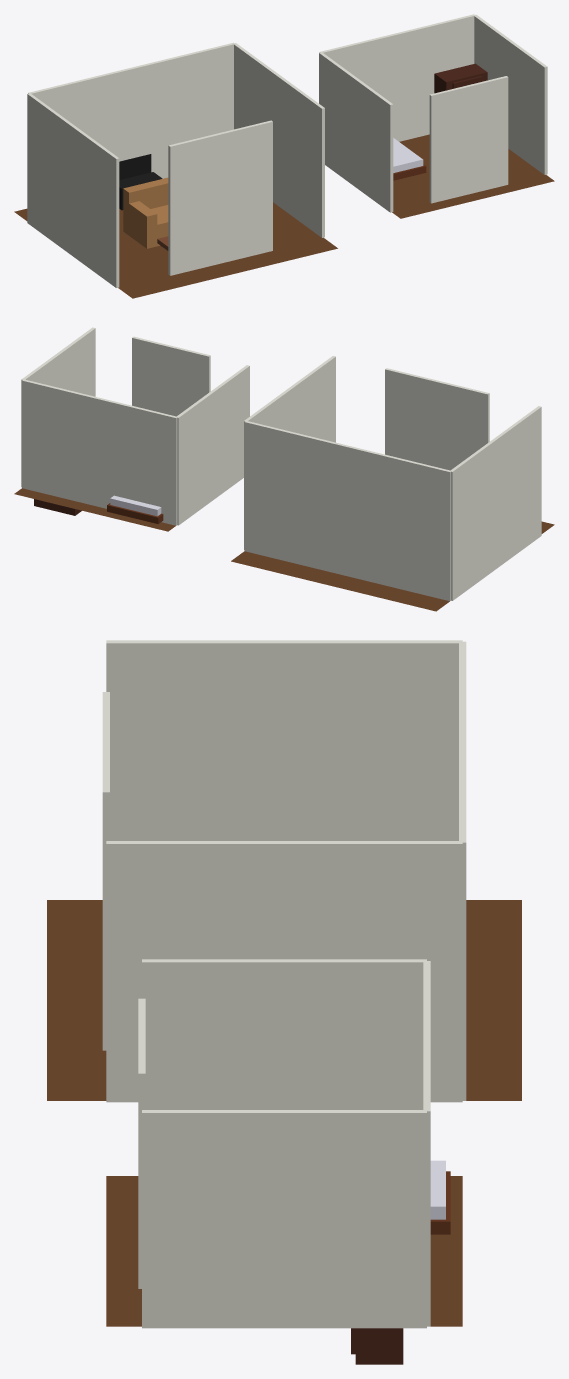
File: boq_professional_0744d3e2-9d2f-44dc-9be9-8b2a7d7617bd.obj
3 views of the same model, one above another, from view 1: azimuth 30°, elevation 25°; view 2: azimuth 150°, elevation 25°; view 3: azimuth 270°, elevation 25° (orthographic). The views are drawn at different scales.
Parts seen in each view (by area): view 1: BackWall_modern_living_room, FrontWall_modern_living_room, LeftWall_modern_living_room, RightWall_modern_living_room, BackWall_master_bedroom, FrontWall_master_bedroom, LeftWall_master_bedroom, Floor_modern_living_room, RightWall_master_bedroom, Floor_master_bedroom, SofaBackrest_modern_living_room, SofaBody_modern_living_room (+5 smaller); view 2: BackWall_modern_living_room, BackWall_master_bedroom, LeftWall_modern_living_room, FrontWall_modern_living_room, LeftWall_master_bedroom, FrontWall_master_bedroom, RightWall_modern_living_room, Floor_modern_living_room, RightWall_master_bedroom, Floor_master_bedroom, Mattress_master_bedroom, BedFrame_master_bedroom; view 3: LeftWall_modern_living_room, RightWall_master_bedroom, RightWall_modern_living_room, LeftWall_master_bedroom, Floor_modern_living_room, Floor_master_bedroom, BackWall_modern_living_room, FrontWall_modern_living_room, BackWall_master_bedroom, Wardrobe_master_bedroom, FrontWall_master_bedroom, Mattress_master_bedroom.
Boxes of the visible parts, x1,y1,x2,y2 form: BackWall_modern_living_room: (28,42,233,178); FrontWall_modern_living_room: (168,120,272,275); LeftWall_modern_living_room: (27,93,119,287); RightWall_modern_living_room: (233,43,324,237); BackWall_master_bedroom: (319,14,475,141); FrontWall_master_bedroom: (429,76,508,203); LeftWall_master_bedroom: (319,52,393,212); Floor_modern_living_room: (14,202,337,298); RightWall_master_bedroom: (474,14,547,174); Floor_master_bedroom: (392,134,554,218); SofaBackrest_modern_living_room: (123,177,168,224); SofaBody_modern_living_room: (123,205,168,248); BackWall_modern_living_room: (244,420,451,601); BackWall_master_bedroom: (22,379,177,525); LeftWall_modern_living_room: (450,406,541,600); FrontWall_modern_living_room: (385,368,489,470); LeftWall_master_bedroom: (176,365,249,525); FrontWall_master_bedroom: (132,336,210,416); RightWall_modern_living_room: (244,356,335,550); Floor_modern_living_room: (231,521,554,611); RightWall_master_bedroom: (21,327,95,487); Floor_master_bedroom: (14,488,175,531); Mattress_master_bedroom: (110,495,161,516); BedFrame_master_bedroom: (107,503,163,524); LeftWall_modern_living_room: (106,640,462,840); RightWall_master_bedroom: (142,1110,426,1328); RightWall_modern_living_room: (106,841,462,1102); LeftWall_master_bedroom: (142,959,426,1109); Floor_modern_living_room: (47,900,521,1100); Floor_master_bedroom: (106,1176,462,1326); BackWall_modern_living_room: (459,641,466,1100); FrontWall_modern_living_room: (102,692,109,1050); BackWall_master_bedroom: (423,961,430,1326); Wardrobe_master_bedroom: (355,1328,403,1364); FrontWall_master_bedroom: (138,998,145,1288); Mattress_master_bedroom: (430,1160,445,1219).
Size of the model in its own units: 42.8 by 14 by 20.
